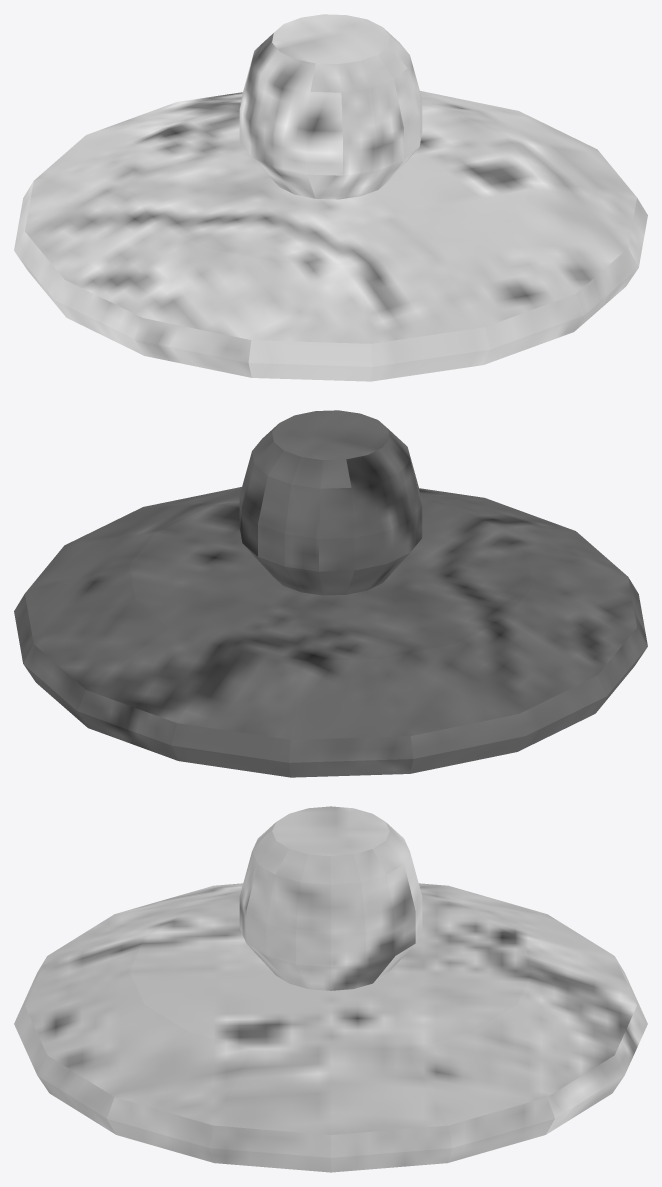
Rendered from Kettle_9a065a67.obj.
The picture shows the model from 3 angles, top to bottom: view 1: azimuth 30°, elevation 25°; view 2: azimuth 150°, elevation 25°; view 3: azimuth 270°, elevation 25°; orthographic projection.
Parts seen in each view (by area): view 1: Kettle_9a065a67; view 2: Kettle_9a065a67; view 3: Kettle_9a065a67.
Part boxes in pixels (x1,y1,x2,y2): Kettle_9a065a67: (14,14,647,381); Kettle_9a065a67: (14,410,647,777); Kettle_9a065a67: (14,806,647,1172).
Bounding box in the file's own units: 0.0926 × 0.0343 × 0.0926.
